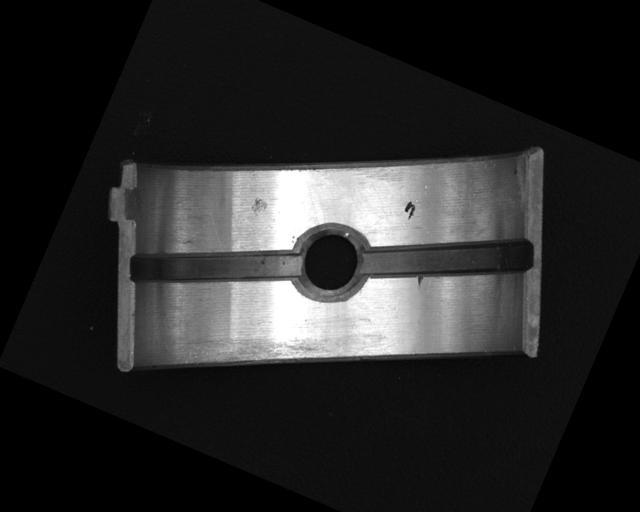blot: (399, 198, 418, 222)
bruise: (248, 195, 270, 219), (412, 273, 425, 288)
gap: (357, 186, 535, 331), (126, 200, 303, 339)
hole: (282, 213, 378, 313)
scratch: (166, 286, 344, 422)
